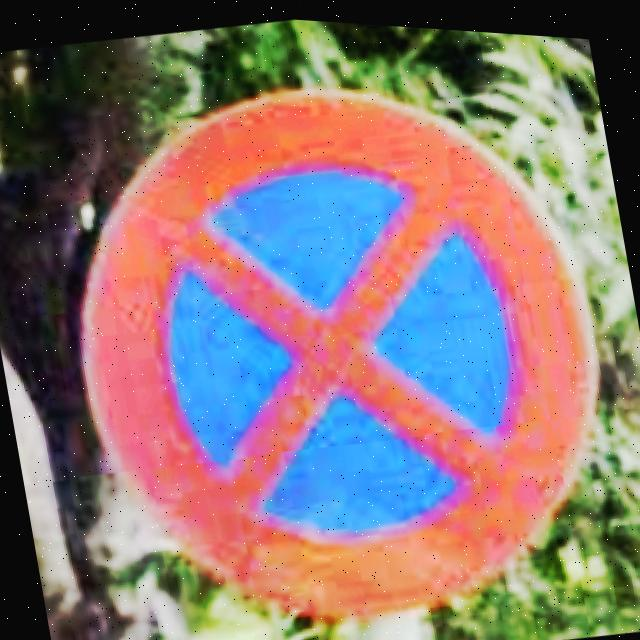nopark: (73, 86, 600, 616)
